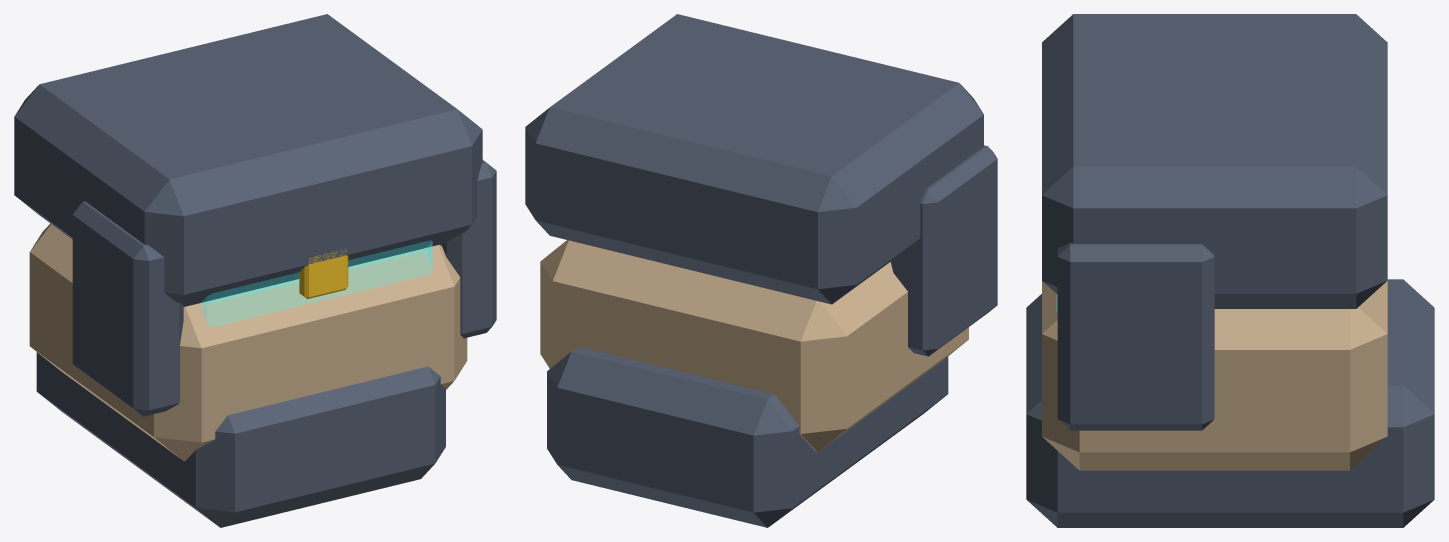
The model's file is Module_DotSight_v003.fbx.
3 views of the same model, side by side, from view 1: azimuth 30°, elevation 25°; view 2: azimuth 150°, elevation 25°; view 3: azimuth 270°, elevation 25° (orthographic). The views are drawn at different scales.
Parts seen in each view (by area): view 1: Module_DotSight__RECEIVER_MESH; view 2: Module_DotSight__RECEIVER_MESH; view 3: Module_DotSight__RECEIVER_MESH.
Part boxes in pixels (x1,y1,x2,y2): Module_DotSight__RECEIVER_MESH: [14, 14, 496, 527]; Module_DotSight__RECEIVER_MESH: [525, 14, 997, 527]; Module_DotSight__RECEIVER_MESH: [1026, 14, 1434, 527].
Size of the model in its own units: 0.29 by 0.27 by 0.26.
